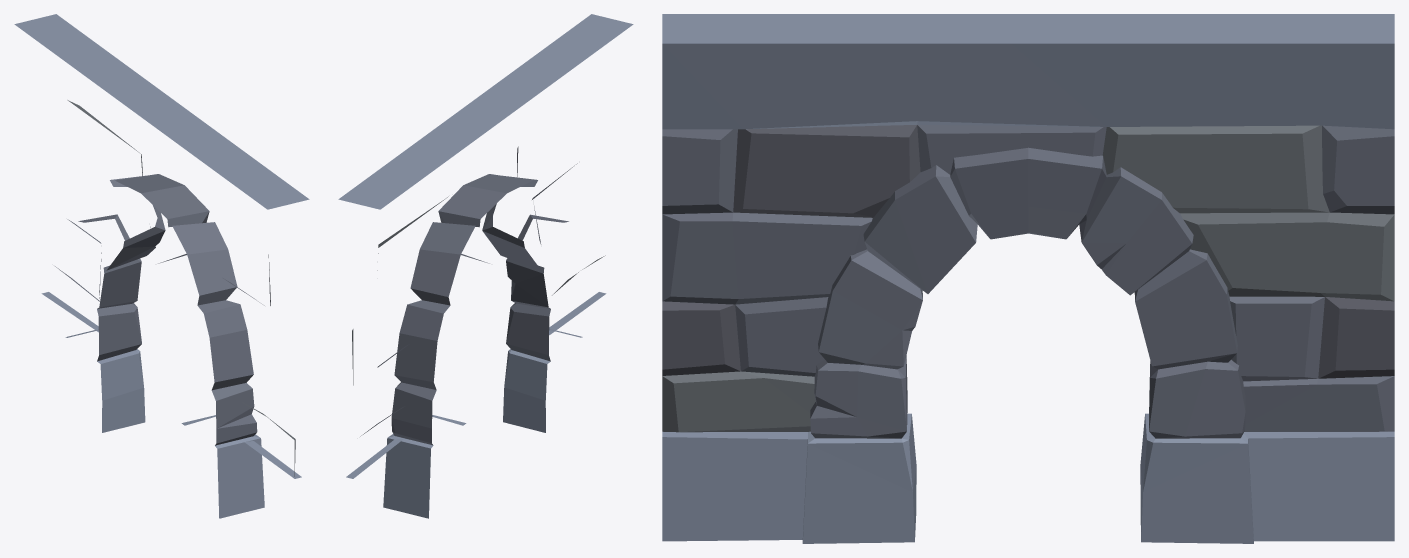
The model's file is Wall_Door.gltf.
The picture shows the model from 3 angles, left to right: view 1: azimuth 30°, elevation 25°; view 2: azimuth 150°, elevation 25°; view 3: azimuth 270°, elevation 25°; orthographic projection. The views are drawn at different scales.
Visible parts, largest first — view 1: Wall_Door2; view 2: Wall_Door2; view 3: Wall_Door2.
Boxes of the visible parts, x1,y1,x2,y2 form: Wall_Door2: (14, 14, 309, 518); Wall_Door2: (338, 14, 633, 518); Wall_Door2: (662, 14, 1394, 543).
Size of the model in its own units: 0.1044 by 0.75 by 1.
